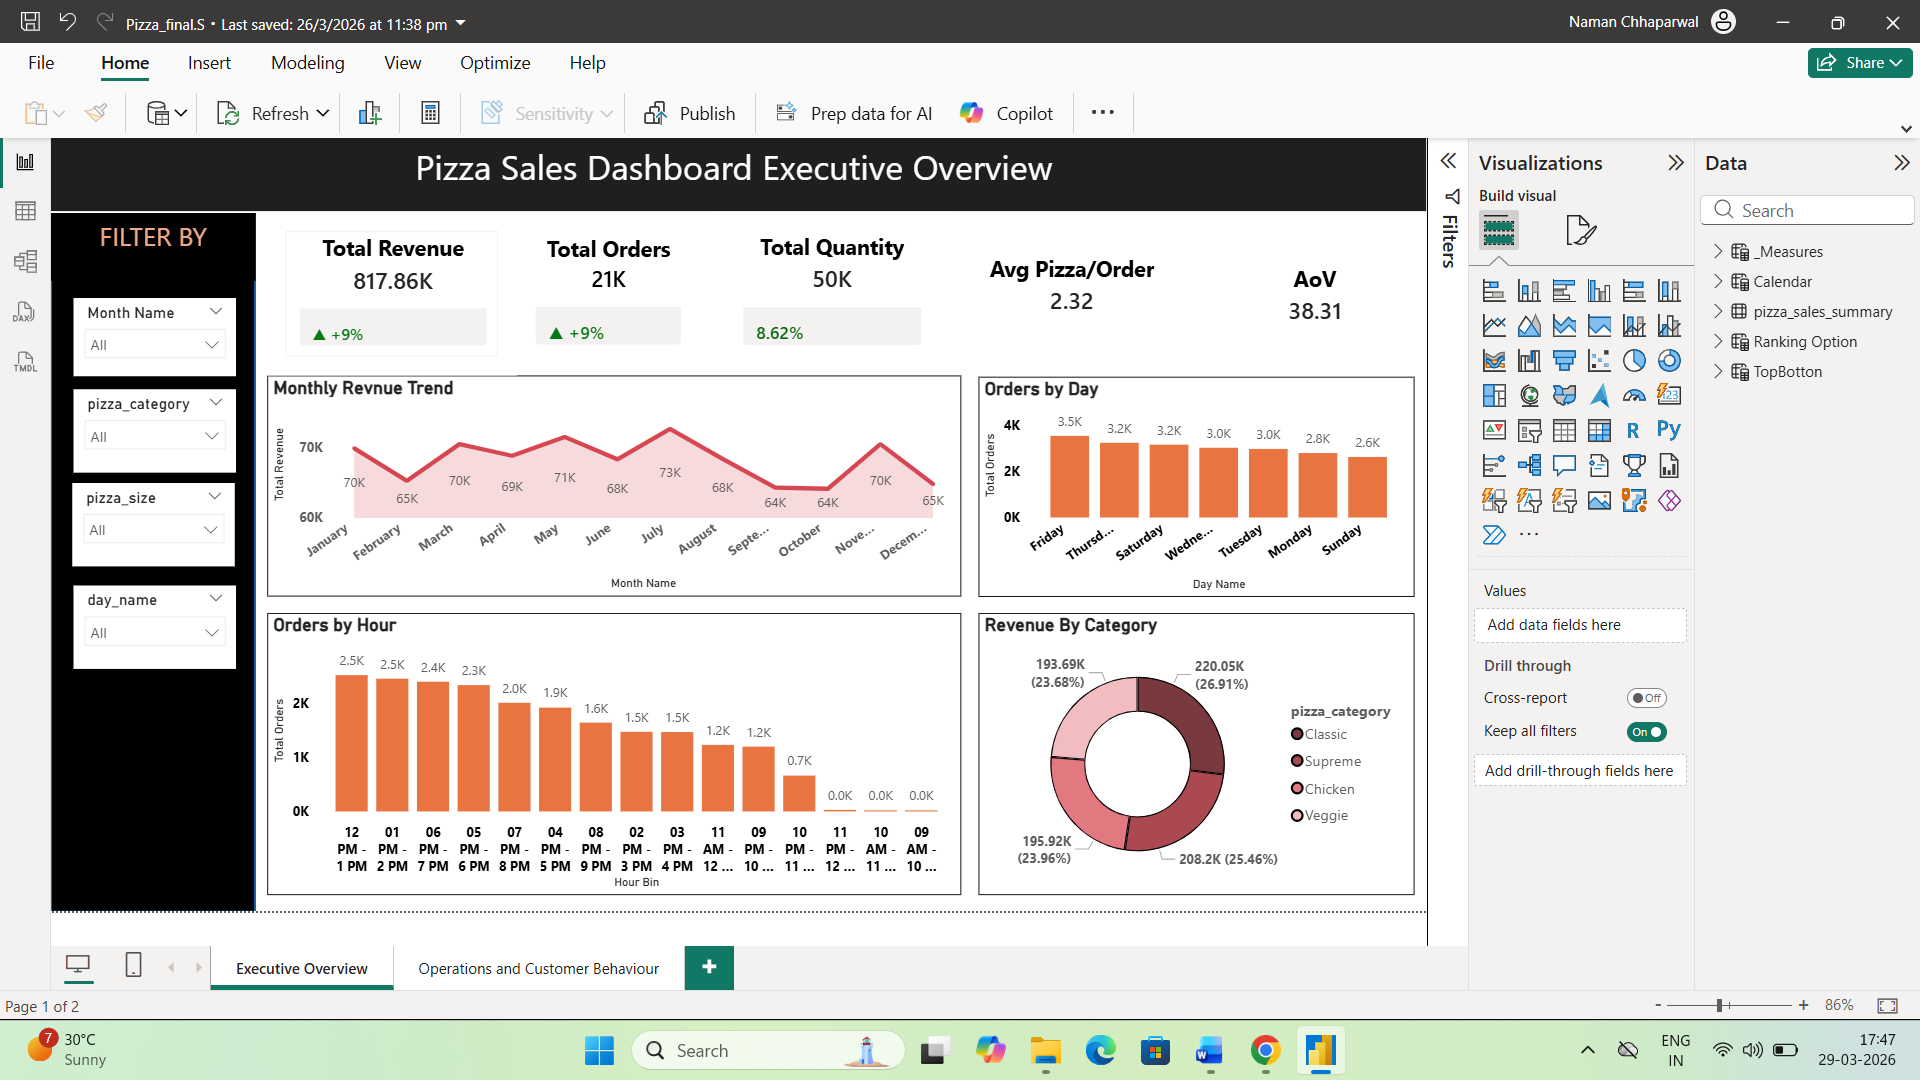

The dashboard page shown, as its layout file describes it:
{"tool":"powerbi","page":{"name":"Executive Overview","canvas":[1280,720],"ordinal":0},"visuals":[{"type":"textbox","box":[0,0,1279.5,68.1],"z":0},{"type":"cardVisual","fields":{"Data":["_Measures.Total_Orders"]},"box":[422.2,70,193.3,151.1],"z":1000},{"type":"cardVisual","fields":{"Data":["_Measures.Total_Quantity"]},"box":[615.1,68.6,223.3,153.5],"z":2000},{"type":"cardVisual","fields":{"Data":["_Measures.Average_Pizza_per_Order"]},"box":[830.2,77.9,239.5,117.4],"z":3000},{"type":"cardVisual","fields":{"Data":["_Measures.AoV"]},"box":[1083.7,69.8,184.9,151.2],"z":4000},{"type":"stackedAreaChart","title":"Monthly Revnue Trend","fields":{"Category":["Calendar.Month Name"],"Y":["_Measures.Total Revenue"]},"box":[200.6,220.9,662.7,206.3],"z":5000},{"type":"clusteredColumnChart","title":"Orders by Hour ","fields":{"Category":["pizza_sales_summary.Hour Bin"],"Y":["_Measures.Total_Orders"]},"box":[200.6,441.8,662.7,262.6],"z":6000},{"type":"donutChart","title":"Revenue By Category","fields":{"Y":["_Measures.Total Revenue"],"Category":["pizza_sales_summary.pizza_category"]},"box":[863.4,441.8,405.8,262.6],"z":7000},{"type":"shape","box":[0,70,190,650],"z":8000},{"type":"clusteredColumnChart","title":"Orders by Day ","fields":{"Y":["_Measures.Total_Orders"],"Category":["Calendar.Day Name"]},"box":[863.4,222,405.8,205.1],"z":9000},{"type":"textbox","box":[0,70,190,63.3],"z":10000},{"type":"slicer","fields":{"Values":["Calendar.Month Name"]},"box":[21.2,148.4,151.4,72.7],"z":11000},{"type":"slicer","fields":{"Values":["pizza_sales_summary.pizza_category"]},"box":[21.2,233.2,151.4,77.2],"z":12000},{"type":"slicer","fields":{"Values":["pizza_sales_summary.pizza_size"]},"box":[19.7,321,151.4,77.2],"z":13000},{"type":"slicer","fields":{"Values":["pizza_sales_summary.day_name"]},"box":[21.2,416.4,151.4,77.2],"z":14000},{"type":"cardVisual","fields":{"Data":["_Measures.Total Revenue"]},"box":[200.6,69.9,232.2,151],"z":15000}]}

Visuals, with their boxes on the page's 1280x720 design canvas (x1, y1, x2, y2). These are canvas units, not pixel positions in the 1920x1080 screenshot, which may show the page scaled, cropped or inside an application window:
textbox: 0/0/1280/68
cardVisual - _Measures.Total_Orders: 422/70/616/221
cardVisual - _Measures.Total_Quantity: 615/69/838/222
cardVisual - _Measures.Average_Pizza_per_Order: 830/78/1070/195
cardVisual - _Measures.AoV: 1084/70/1269/221
"Monthly Revnue Trend" stackedAreaChart: 201/221/863/427
"Orders by Hour " clusteredColumnChart: 201/442/863/704
"Revenue By Category" donutChart: 863/442/1269/704
shape: 0/70/190/720
"Orders by Day " clusteredColumnChart: 863/222/1269/427
textbox: 0/70/190/133
slicer - Calendar.Month Name: 21/148/173/221
slicer - pizza_sales_summary.pizza_category: 21/233/173/310
slicer - pizza_sales_summary.pizza_size: 20/321/171/398
slicer - pizza_sales_summary.day_name: 21/416/173/494
cardVisual - _Measures.Total Revenue: 201/70/433/221
